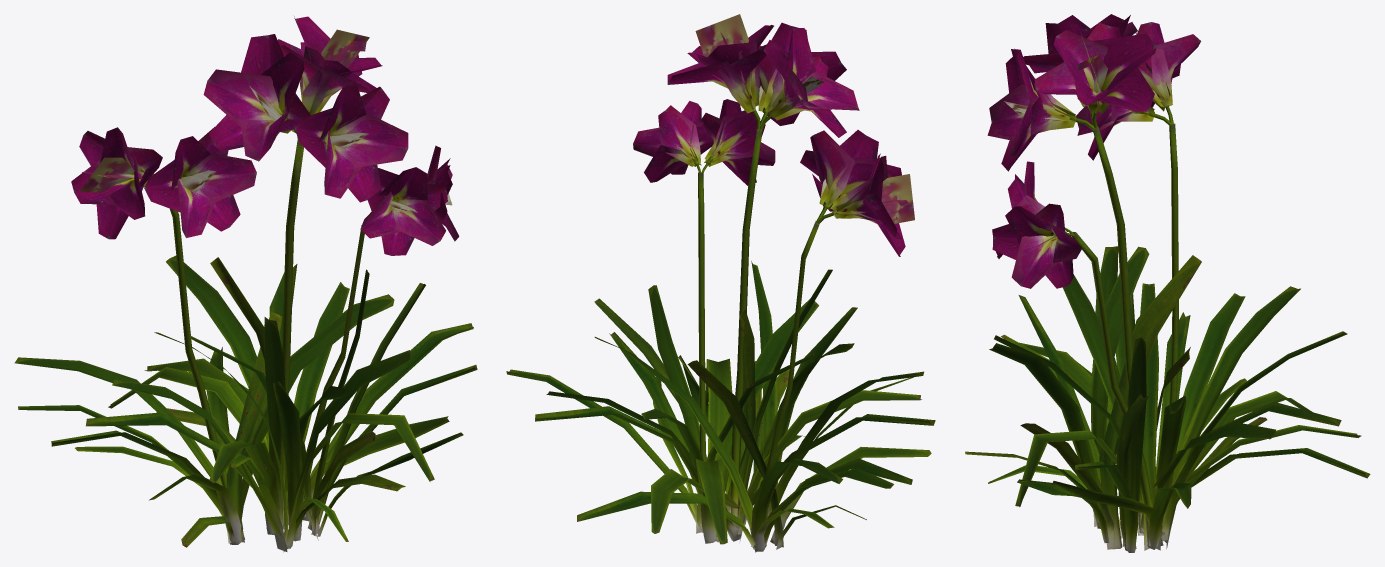
File: Amaryllis_bush_long_magenta.glb
The picture shows the model from 3 angles, left to right: view 1: azimuth 30°, elevation 25°; view 2: azimuth 150°, elevation 25°; view 3: azimuth 270°, elevation 25°; orthographic projection. The views are drawn at different scales.
Visible parts, largest first — view 1: bush; view 2: bush; view 3: bush.
Boxes of the visible parts, x1,y1,x2,y2 form: bush: (14,16,477,552); bush: (506,14,935,552); bush: (965,14,1370,552).
Size of the model in its own units: 2.94 by 3.42 by 2.41.
Materials: 1 (1 with a texture image).
